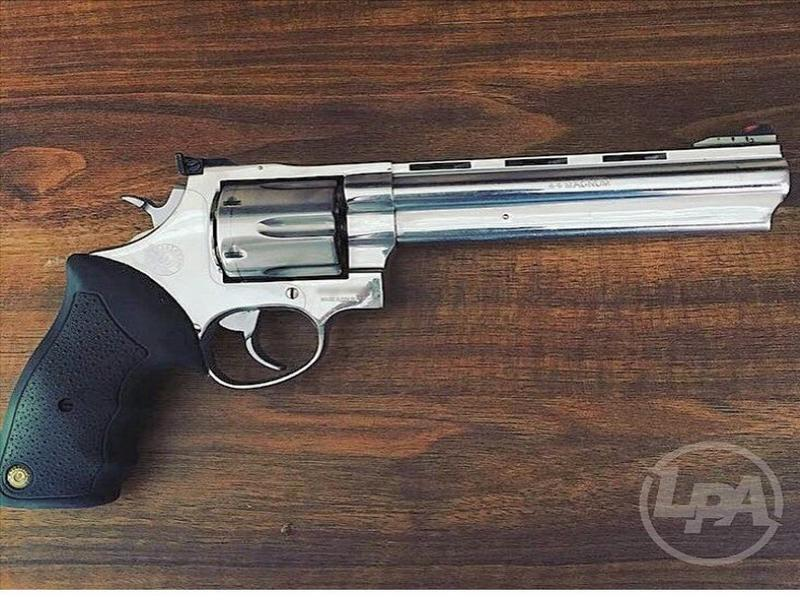Revolver: (8, 123, 794, 512)
